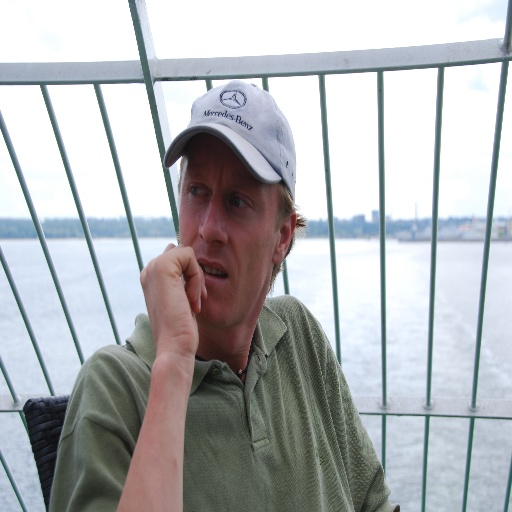hand: (135, 231, 213, 369)
